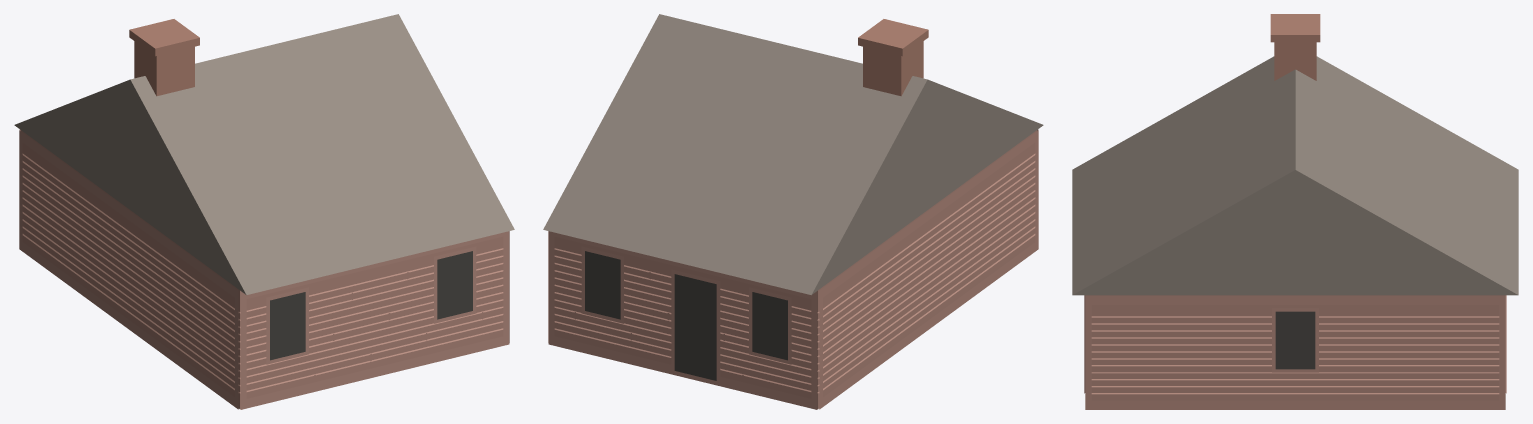
Rendered from recon_1835_north_d4_025__inferred_1835.glb.
3 views of the same model, side by side, from view 1: azimuth 30°, elevation 25°; view 2: azimuth 150°, elevation 25°; view 3: azimuth 270°, elevation 25° (orthographic). The views are drawn at different scales.
Parts seen in each view (by area): view 1: recon_1835_north_d4_025__inferred_1835; view 2: recon_1835_north_d4_025__inferred_1835; view 3: recon_1835_north_d4_025__inferred_1835.
Boxes of the visible parts, x1,y1,x2,y2 form: recon_1835_north_d4_025__inferred_1835: (14,14,514,409); recon_1835_north_d4_025__inferred_1835: (543,14,1043,409); recon_1835_north_d4_025__inferred_1835: (1072,14,1518,409).
Bounding box in the file's own units: 5.94 × 5.99 × 8.79.
